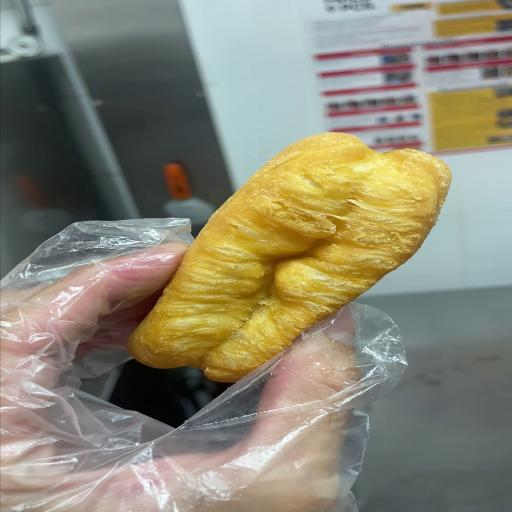brand_golden_good: (128, 133, 450, 382)
